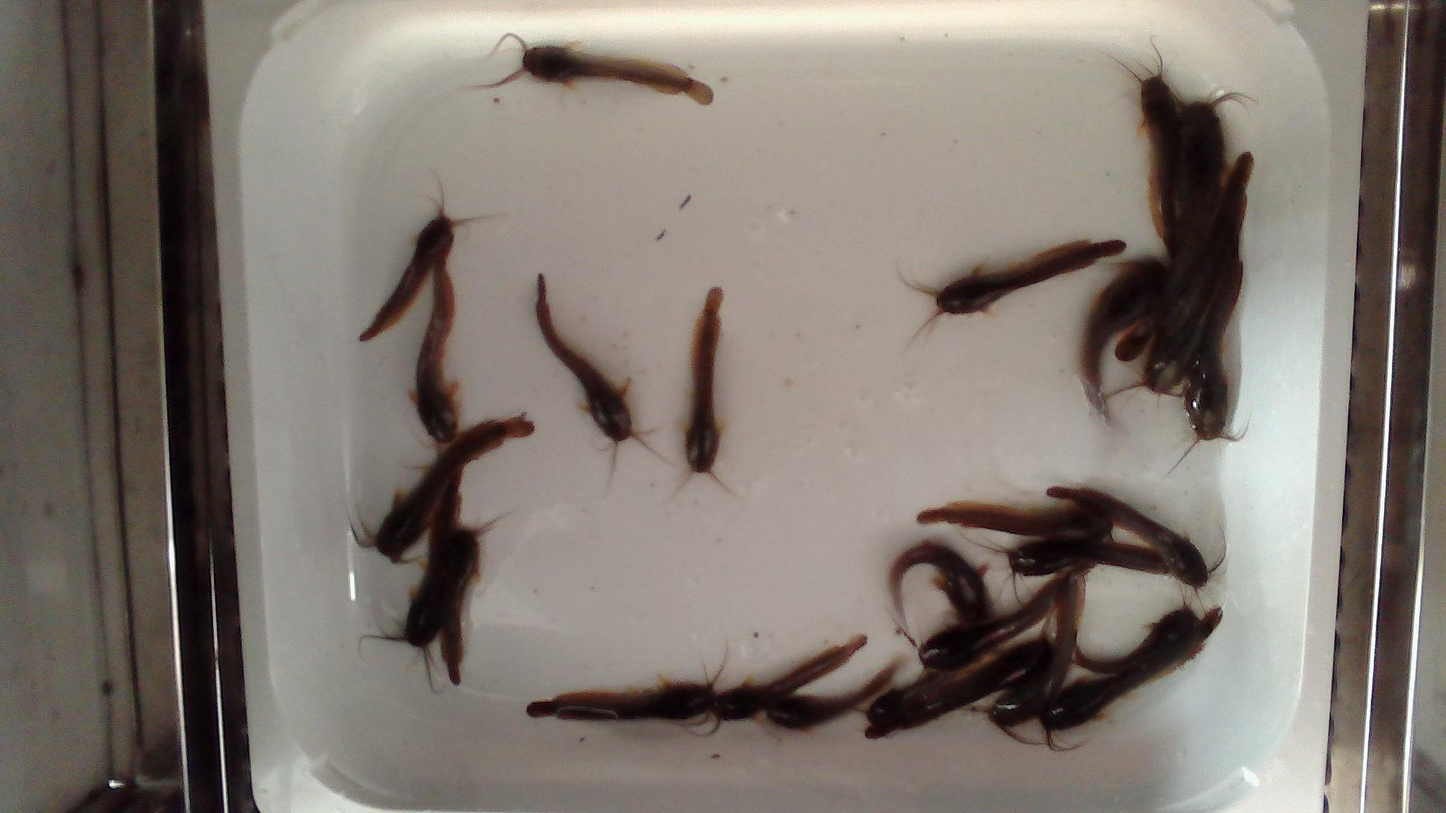lele: (1115, 89, 1258, 365), (1145, 151, 1258, 394), (354, 462, 468, 699), (378, 416, 538, 556), (1044, 610, 1223, 731), (1168, 238, 1255, 474), (461, 29, 712, 105), (917, 563, 1092, 672), (1046, 482, 1213, 596), (865, 639, 1050, 739), (535, 274, 635, 441), (1077, 255, 1168, 421), (929, 239, 1125, 313), (971, 539, 1170, 606), (995, 581, 1087, 722), (713, 639, 864, 721), (441, 508, 509, 686), (361, 211, 453, 340), (767, 662, 901, 728), (413, 259, 459, 444), (886, 545, 987, 623), (917, 502, 1110, 540), (1075, 612, 1195, 673), (685, 288, 723, 473), (527, 683, 710, 720), (1144, 76, 1182, 241), (867, 670, 955, 723)
